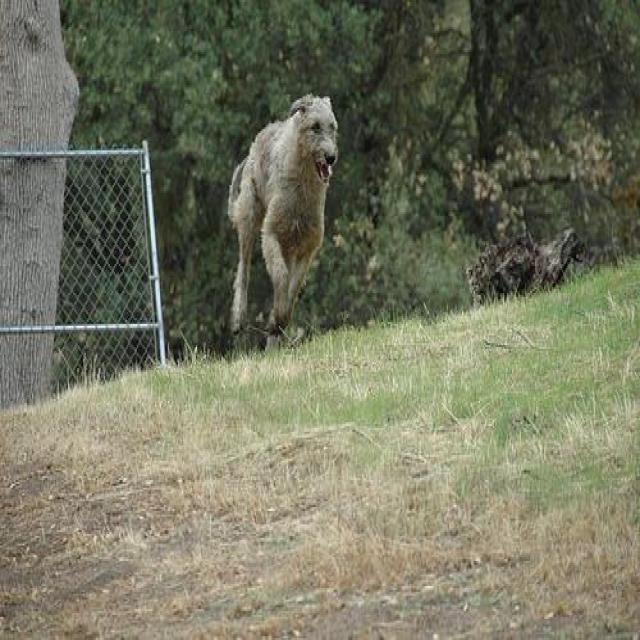irish_wolfhound: (225, 89, 337, 339)
